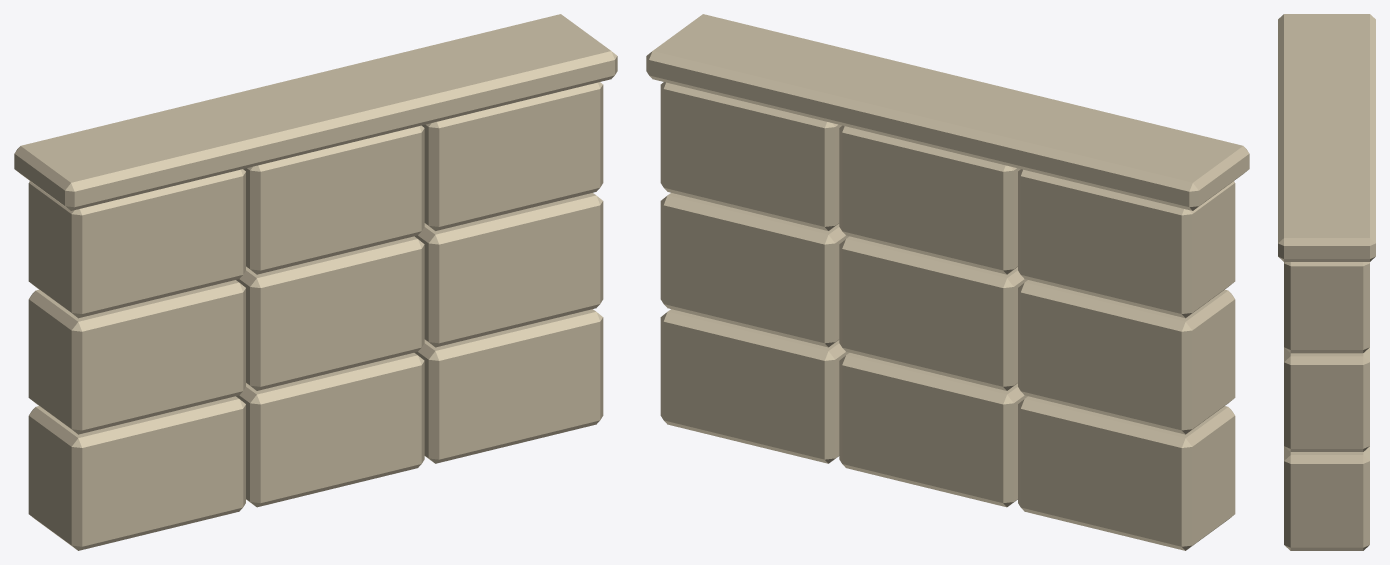
Rendered from Ruin_Wall_A.glb.
3 renders of one model, left to right at view 1: azimuth 30°, elevation 25°; view 2: azimuth 150°, elevation 25°; view 3: azimuth 270°, elevation 25°, orthographic. The views are drawn at different scales.
Visible parts, largest first — view 1: Ruin_Wall_A.001; view 2: Ruin_Wall_A.001; view 3: Ruin_Wall_A.001.
Part boxes in pixels (bbox=[...]): Ruin_Wall_A.001: bbox=[14, 14, 617, 550]; Ruin_Wall_A.001: bbox=[646, 14, 1249, 550]; Ruin_Wall_A.001: bbox=[1278, 14, 1375, 550].
Bounding box in the file's own units: 8.2 × 5.3 × 1.48.
